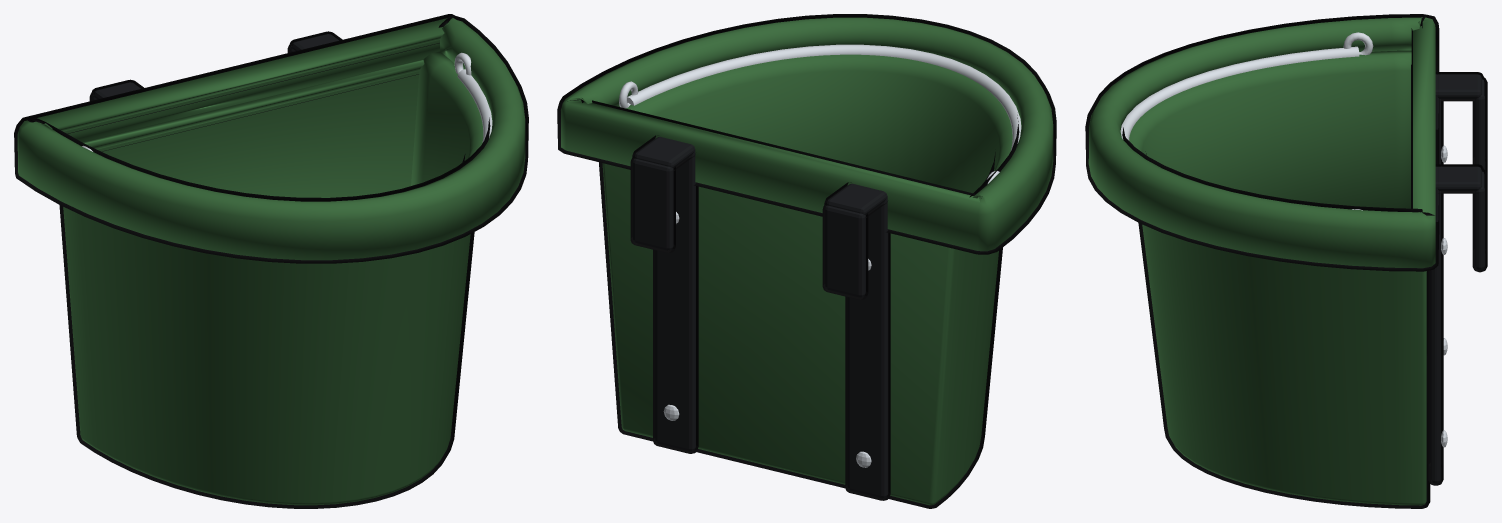
The model's file is eimer-stufe2.glb.
3 renders of one model, left to right at view 1: azimuth 30°, elevation 25°; view 2: azimuth 150°, elevation 25°; view 3: azimuth 270°, elevation 25°, orthographic. The views are drawn at different scales.
Parts seen in each view (by area): view 1: eimer2_koerper, eimer2_buegel, eimer2_haken_r, eimer2_haken_l; view 2: eimer2_koerper, eimer2_haken_l, eimer2_haken_r, eimer2_buegel; view 3: eimer2_koerper, eimer2_haken_r, eimer2_haken_l, eimer2_buegel.
Part boxes in pixels (box(x1,y1,x2,y2)): eimer2_koerper: box(14, 14, 528, 508); eimer2_buegel: box(457, 69, 492, 142); eimer2_haken_r: box(287, 31, 342, 52); eimer2_haken_l: box(89, 79, 143, 101); eimer2_koerper: box(557, 14, 1056, 508); eimer2_haken_l: box(822, 182, 890, 500); eimer2_haken_r: box(630, 135, 698, 453); eimer2_buegel: box(627, 44, 1021, 150); eimer2_koerper: box(1085, 14, 1439, 508); eimer2_haken_r: box(1428, 164, 1487, 485); eimer2_haken_l: box(1435, 72, 1487, 173); eimer2_buegel: box(1120, 46, 1359, 140).
Size of the model in its own units: 54.28 by 38.77 by 43.79.
